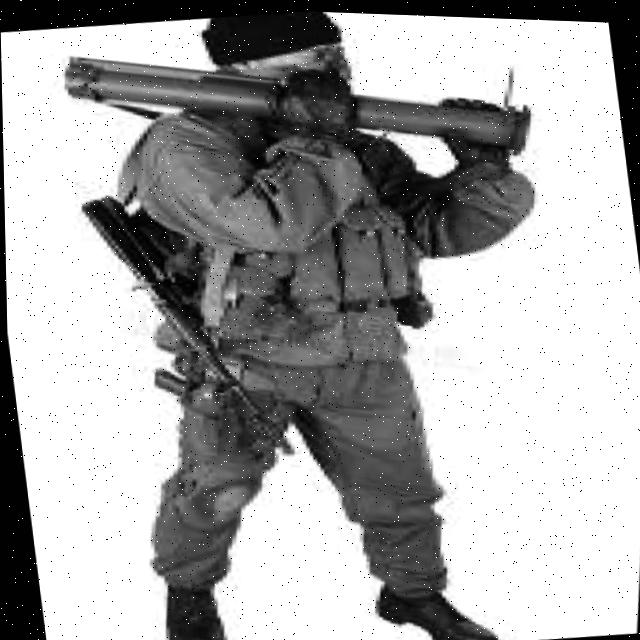rocket: (52, 2, 547, 218)
